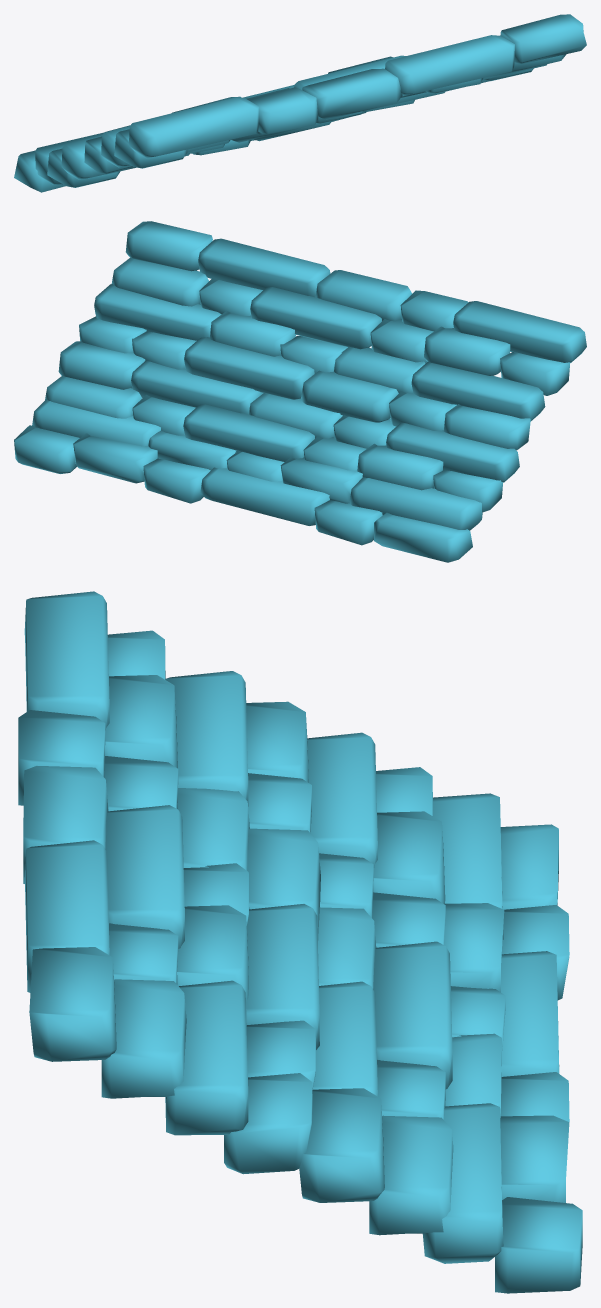
Rendered from stairs.FBX.
3 views of the same model, one above another, from view 1: azimuth 30°, elevation 25°; view 2: azimuth 150°, elevation 25°; view 3: azimuth 270°, elevation 25° (orthographic). The views are drawn at different scales.
Visible parts, largest first — view 1: stairs; view 2: stairs; view 3: stairs.
Part boxes in pixels (x1,y1,x2,y2): stairs: (14,14,586,192); stairs: (14,221,586,562); stairs: (18,591,582,1293).
Size of the model in its own units: 177 by 54.59 by 97.21.
